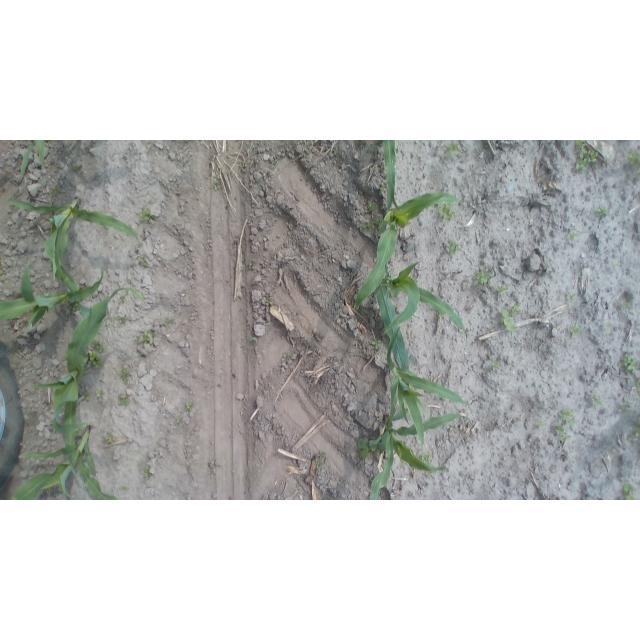Maize: (34, 286, 142, 475), (356, 185, 465, 310), (367, 259, 468, 377), (7, 196, 142, 280), (386, 331, 471, 447), (11, 417, 122, 500), (365, 411, 467, 500), (0, 258, 106, 333), (381, 140, 400, 210), (19, 141, 51, 180)
Weeds: (574, 140, 598, 172), (358, 438, 379, 465), (500, 306, 519, 334), (437, 202, 458, 222), (360, 215, 384, 232), (621, 352, 638, 374), (136, 330, 157, 347), (554, 424, 571, 445), (87, 351, 105, 370), (473, 269, 492, 286), (620, 481, 637, 499), (445, 239, 462, 257), (624, 150, 640, 169), (559, 408, 576, 425), (138, 206, 154, 224), (444, 141, 462, 157), (212, 169, 225, 191), (120, 368, 133, 387), (137, 251, 152, 267), (90, 339, 106, 353), (567, 322, 581, 338), (418, 453, 433, 467), (65, 302, 82, 314), (588, 393, 602, 407), (116, 393, 130, 407), (496, 284, 509, 298), (282, 349, 295, 363), (618, 403, 633, 415), (490, 359, 503, 372), (598, 205, 610, 219), (104, 432, 117, 444), (511, 300, 522, 314), (316, 451, 324, 469), (371, 338, 383, 350), (163, 316, 176, 327), (116, 314, 129, 325), (118, 291, 128, 305), (621, 299, 632, 311), (82, 390, 92, 403), (249, 336, 260, 347), (143, 465, 151, 480), (569, 230, 578, 243), (50, 187, 58, 201), (631, 424, 638, 440), (264, 297, 274, 308), (566, 293, 576, 304), (95, 389, 105, 399), (185, 401, 194, 412), (119, 485, 130, 494), (604, 323, 614, 332), (248, 261, 257, 271), (535, 421, 545, 430), (603, 456, 612, 466), (438, 310, 447, 319), (425, 472, 434, 481), (72, 165, 83, 172), (369, 202, 378, 210), (610, 262, 618, 270), (45, 401, 52, 410), (400, 461, 407, 470), (0, 266, 4, 275), (177, 418, 182, 424), (380, 184, 385, 190), (638, 169, 640, 173)
